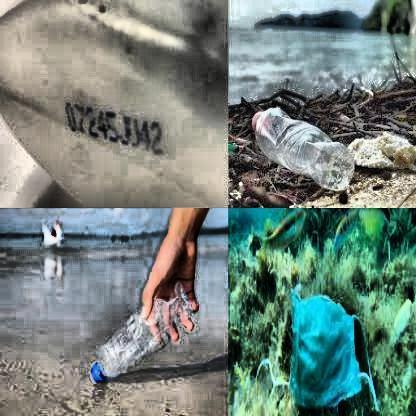Plastic wastes: (277, 292, 382, 413), (87, 280, 189, 386), (249, 106, 358, 198)
